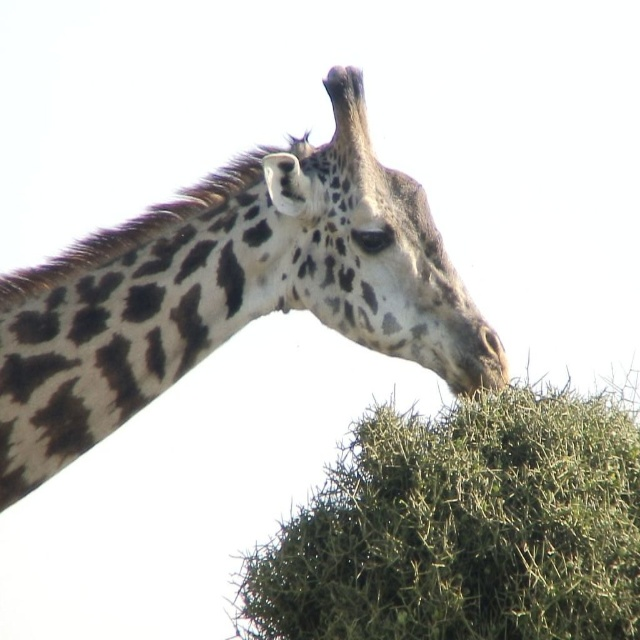Giraffe: (7, 63, 517, 517)
